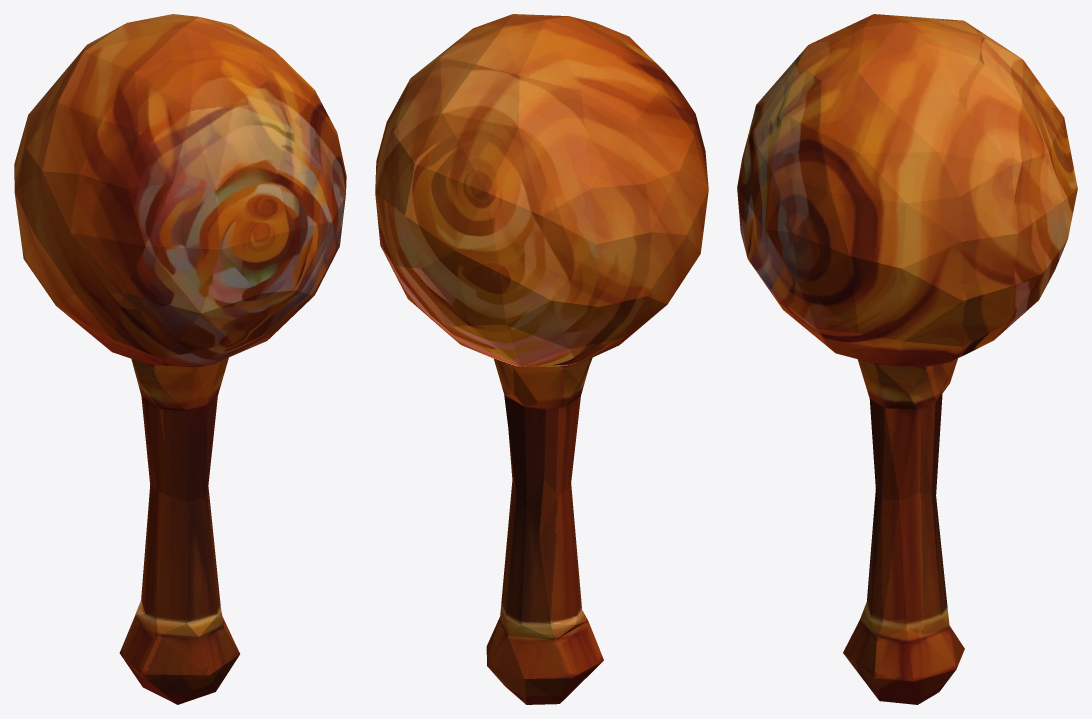
The model's file is magic_staff_3.glb.
The picture shows the model from 3 angles, left to right: view 1: azimuth 30°, elevation 25°; view 2: azimuth 150°, elevation 25°; view 3: azimuth 270°, elevation 25°; orthographic projection.
Visible parts, largest first — view 1: TexturedMesh_.obj; view 2: TexturedMesh_.obj; view 3: TexturedMesh_.obj.
Part boxes in pixels (x1,y1,x2,y2): TexturedMesh_.obj: (14, 14, 346, 704); TexturedMesh_.obj: (375, 14, 708, 704); TexturedMesh_.obj: (737, 14, 1077, 704).
Size of the model in its own units: 0.9018 by 1.98 by 0.9134.
1 material, 1 textured.
